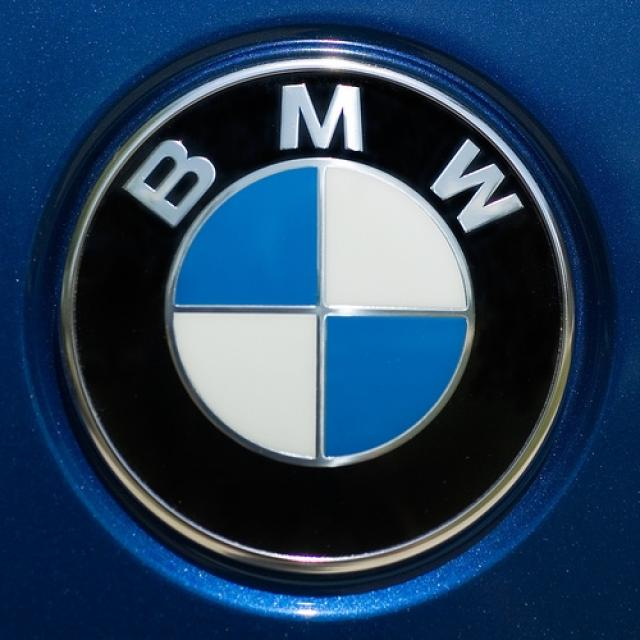bmw: (49, 47, 593, 589)
